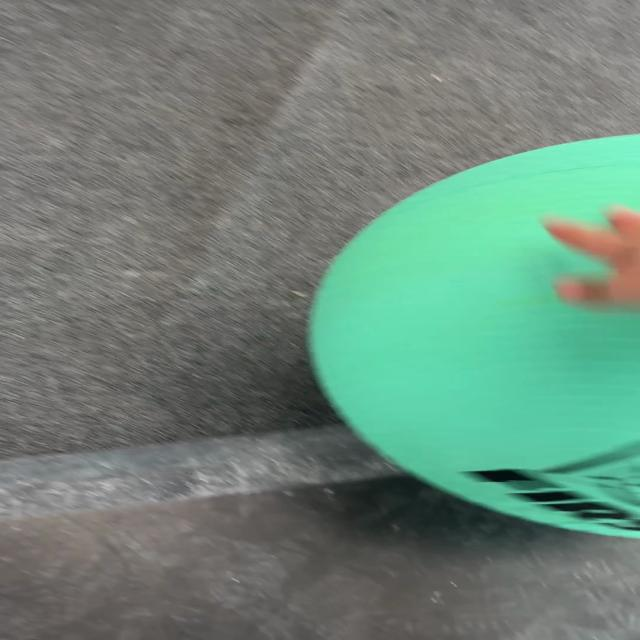Algae: (306, 132, 638, 538)
